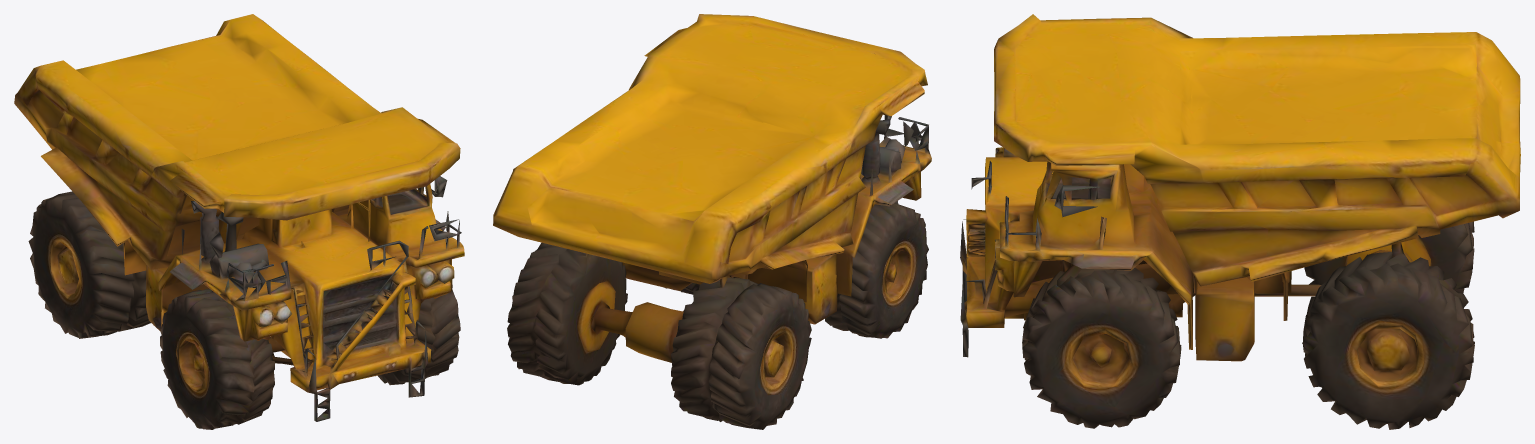
File: truck_mining_haul.glb
The picture shows the model from 3 angles, left to right: view 1: azimuth 30°, elevation 25°; view 2: azimuth 150°, elevation 25°; view 3: azimuth 270°, elevation 25°; orthographic projection. The views are drawn at different scales.
Visible parts, largest first — view 1: tripo_node_e9c1ba1d-71f8-491c-bba5-1caa16f4bde6; view 2: tripo_node_e9c1ba1d-71f8-491c-bba5-1caa16f4bde6; view 3: tripo_node_e9c1ba1d-71f8-491c-bba5-1caa16f4bde6.
Part boxes in pixels (x1,y1,x2,y2): tripo_node_e9c1ba1d-71f8-491c-bba5-1caa16f4bde6: (14, 14, 464, 429); tripo_node_e9c1ba1d-71f8-491c-bba5-1caa16f4bde6: (493, 14, 931, 429); tripo_node_e9c1ba1d-71f8-491c-bba5-1caa16f4bde6: (960, 14, 1520, 429).
Bounding box in the file's own units: 0.6152 × 0.5676 × 1.
Materials: 1 (1 with a texture image).
